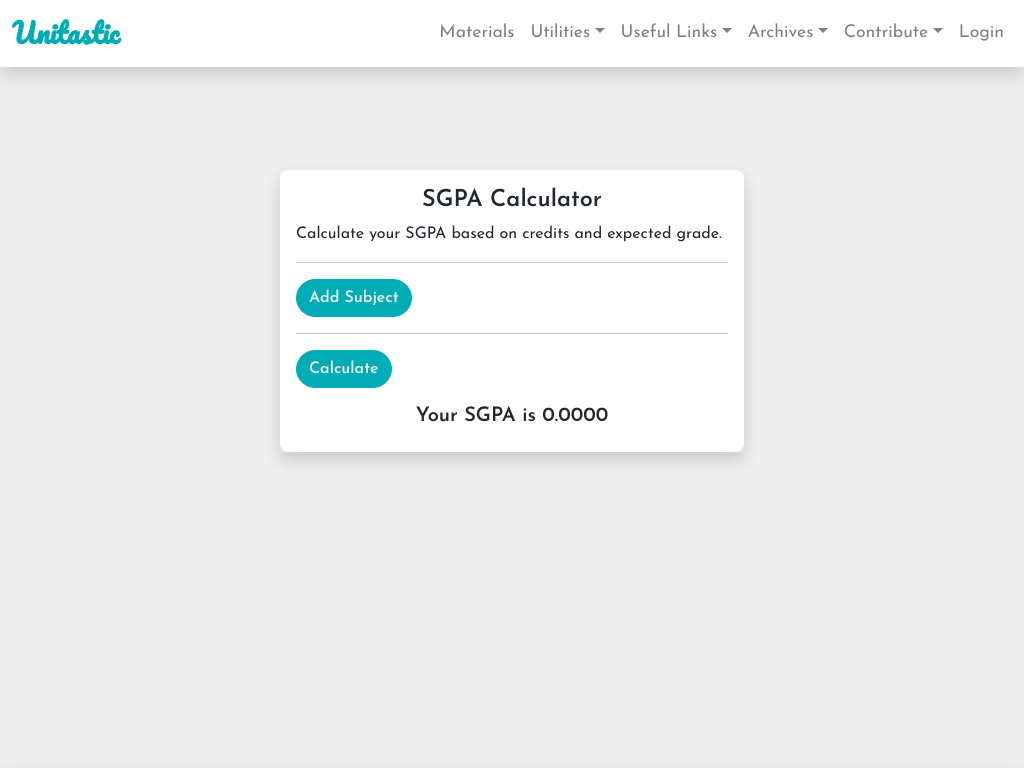
it: SGPACalculator Component › adds multiple subjects
The image size is (1024, 768).
// Add three subjects
Click the button "Add Subject" at (354, 298), box [296,279,412,317]
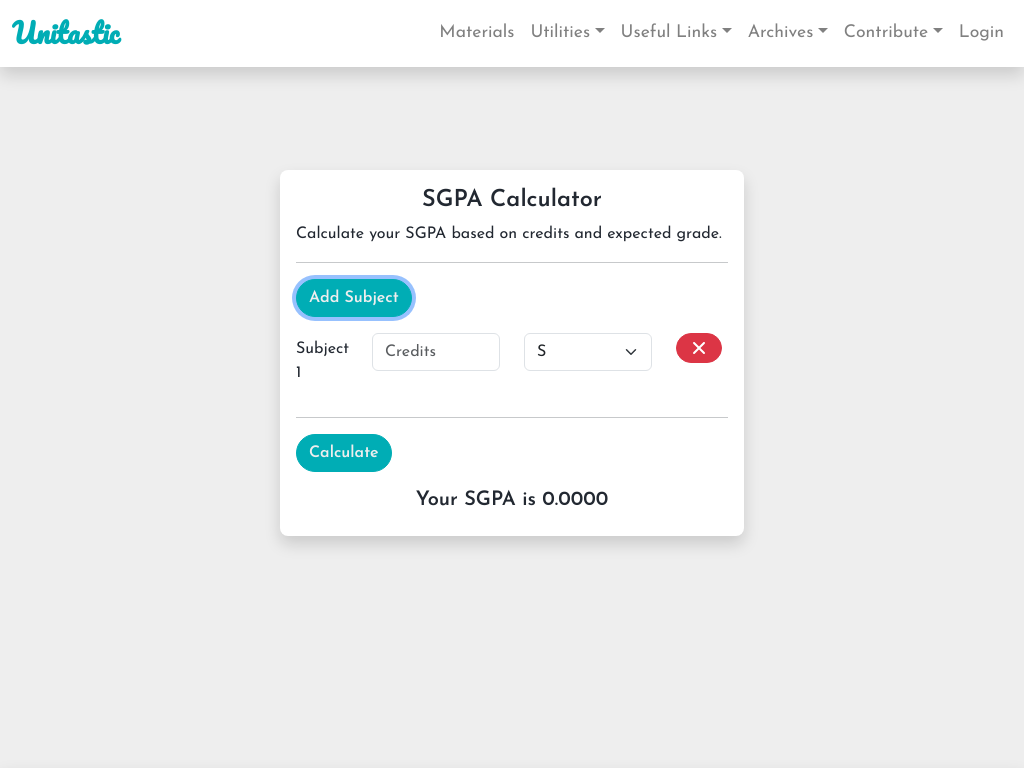
Click the button "Add Subject" at (354, 298), box [296,279,412,317]
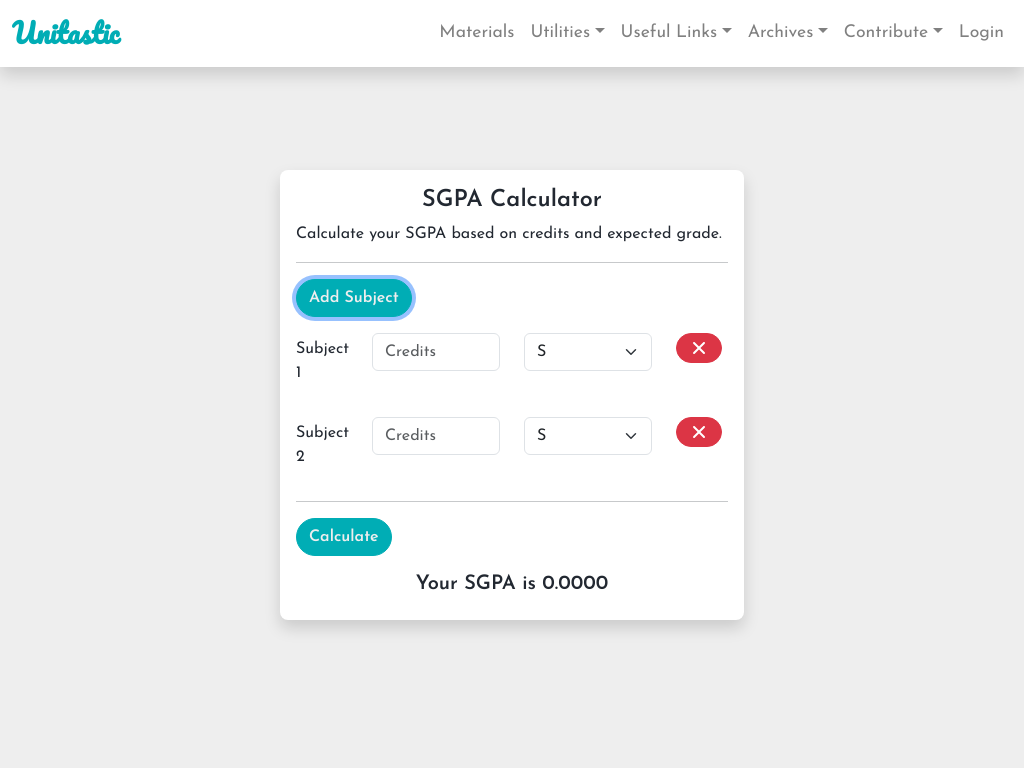
Click the button "Add Subject" at (354, 298), box [296,279,412,317]
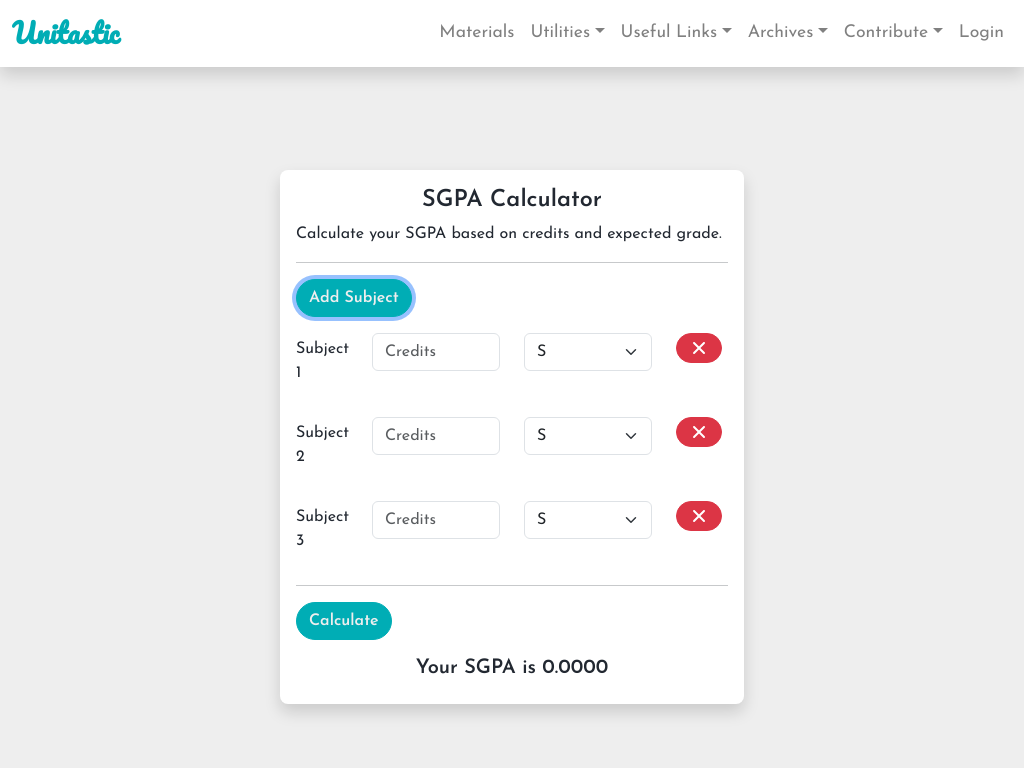
Now the text "Subject 1" is shown, box [296,337,348,385]
Now the text "Subject 2" is shown, box [296,421,348,469]
Now the text "Subject 3" is shown, box [296,505,348,553]
